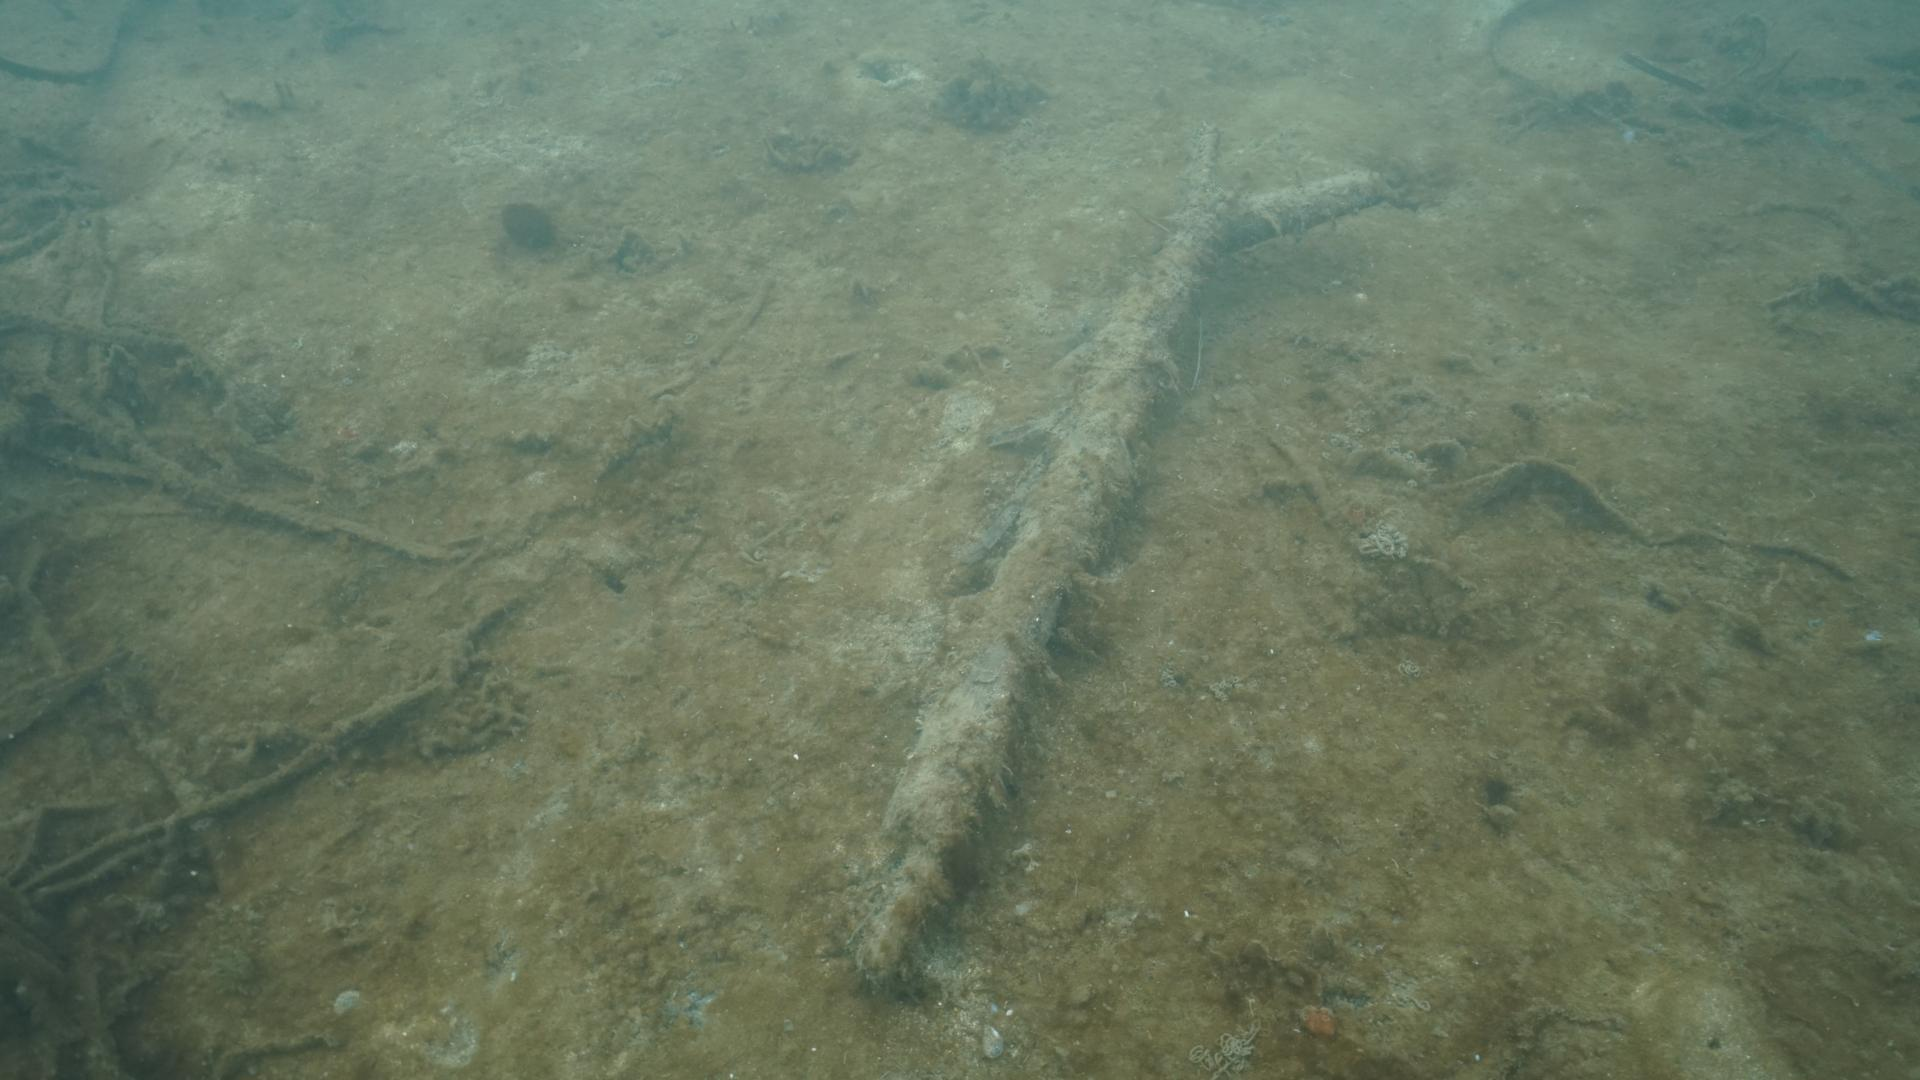wood: (847, 123, 1379, 992)
